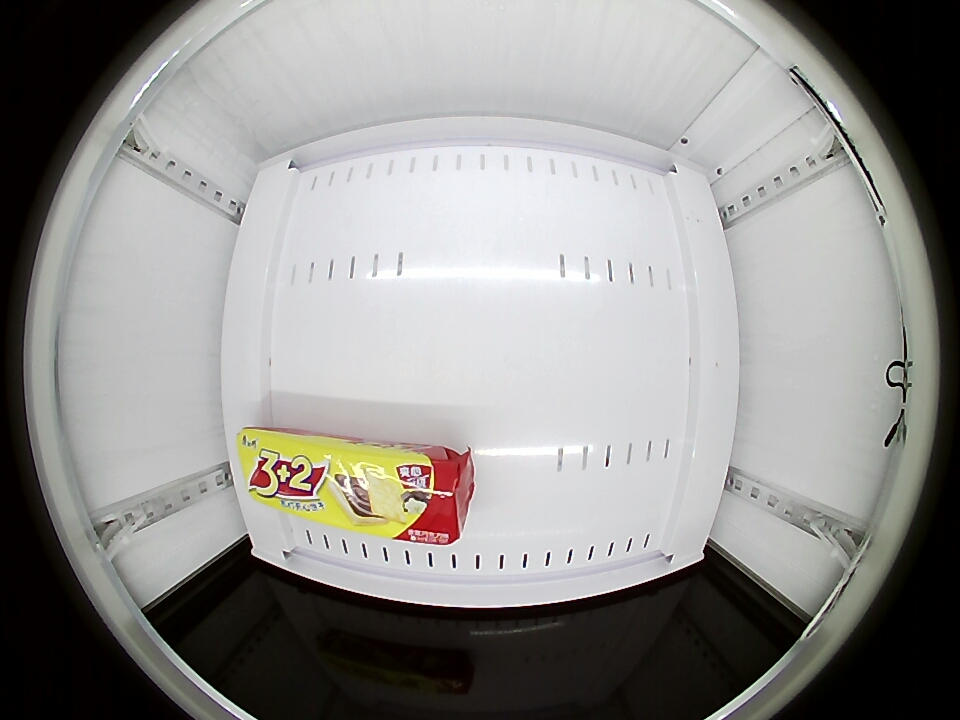3jia2: (240, 430, 465, 547)
